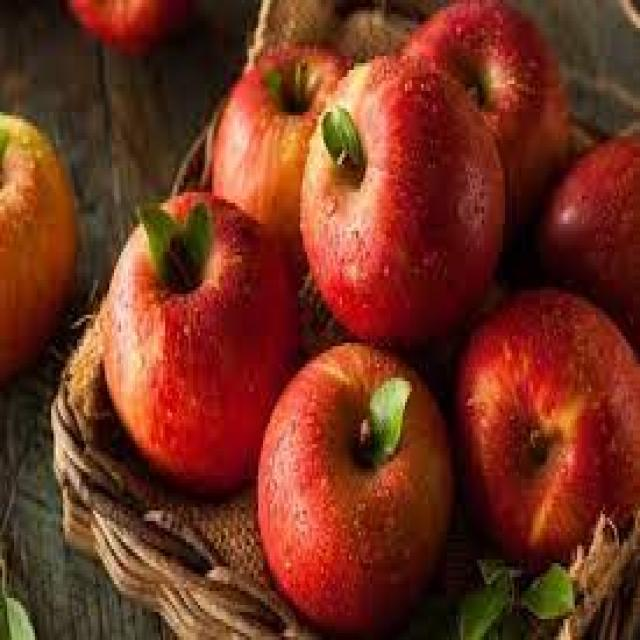apple: (300, 53, 514, 337)
